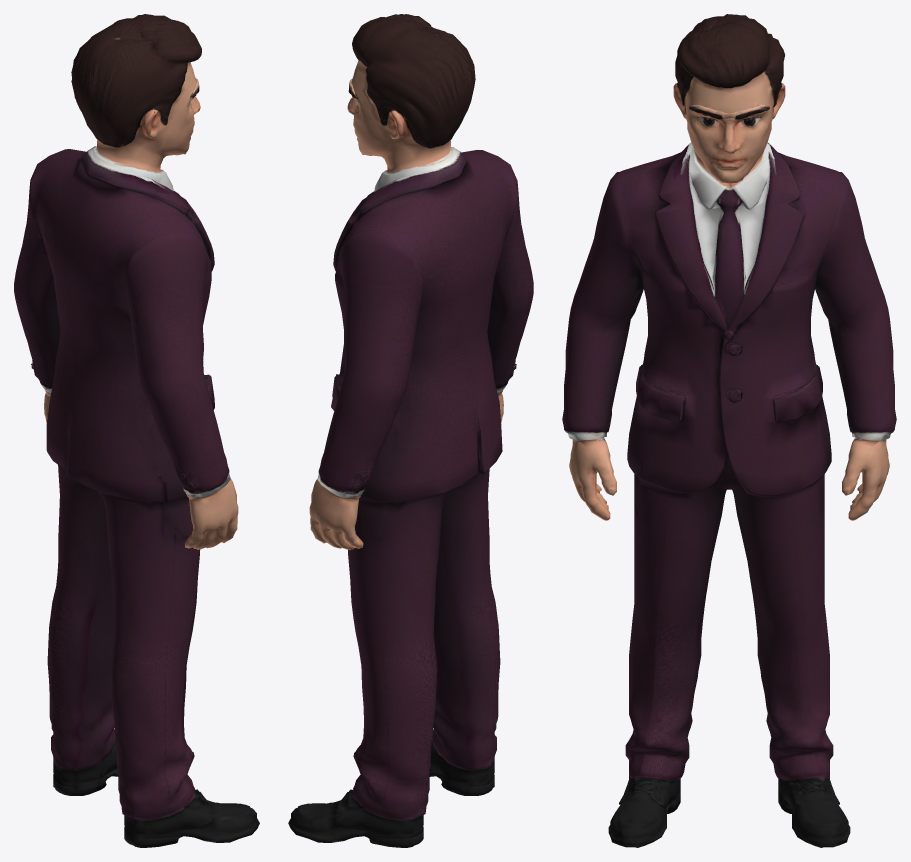
The model's file is businessman+in+suit+3d+model.glb.
The picture shows the model from 3 angles, left to right: view 1: azimuth 30°, elevation 25°; view 2: azimuth 150°, elevation 25°; view 3: azimuth 270°, elevation 25°; orthographic projection.
Parts seen in each view (by area): view 1: tripo_node_1d7b64b0-1286-4a55-bf0d-5f784fed3891; view 2: tripo_node_1d7b64b0-1286-4a55-bf0d-5f784fed3891; view 3: tripo_node_1d7b64b0-1286-4a55-bf0d-5f784fed3891.
Part boxes in pixels (bbox=[...]): tripo_node_1d7b64b0-1286-4a55-bf0d-5f784fed3891: bbox=[14, 14, 259, 847]; tripo_node_1d7b64b0-1286-4a55-bf0d-5f784fed3891: bbox=[288, 14, 533, 847]; tripo_node_1d7b64b0-1286-4a55-bf0d-5f784fed3891: bbox=[562, 14, 896, 847].
Size of the model in its own units: 0.1879 by 0.9799 by 0.3739.
1 material, 1 textured.
